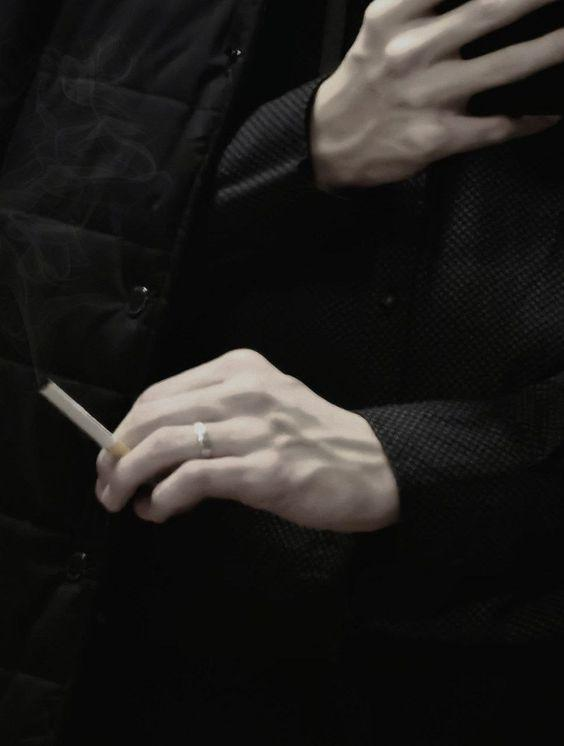cigarette: (37, 378, 131, 460)
